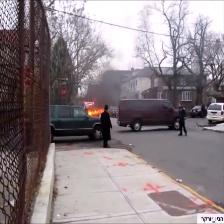fire: (86, 105, 109, 119)
